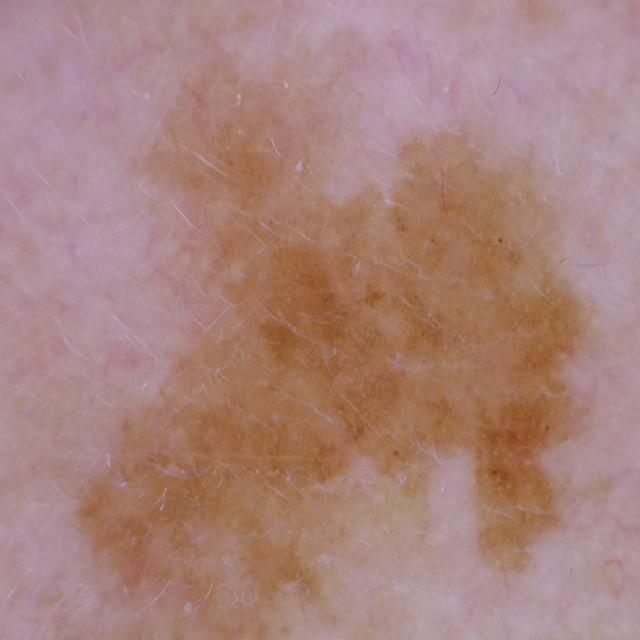Keratosis: (50, 57, 627, 640)
